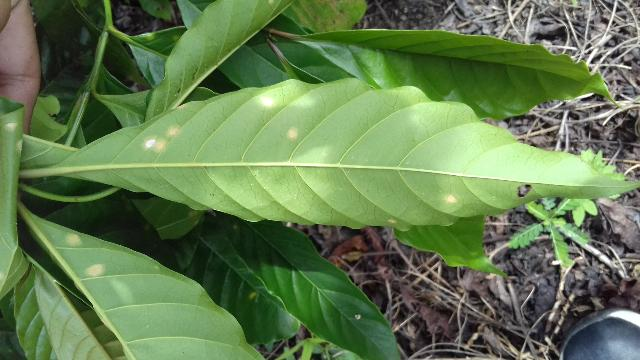rust_level_1: (48, 77, 638, 230)
